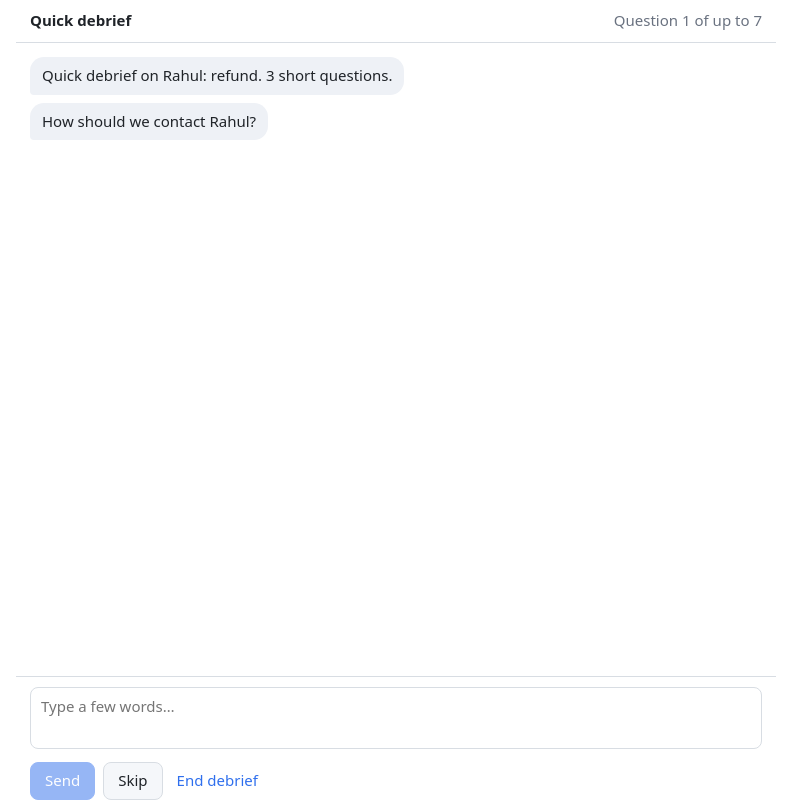
Test: debrief conversation › a stale question (409) refreshes the state instead of failing
The width and height of the screenshot is (793, 810).
In the text box named "Your answer": (396, 718) 30,687 -> 762,748, type "hello"
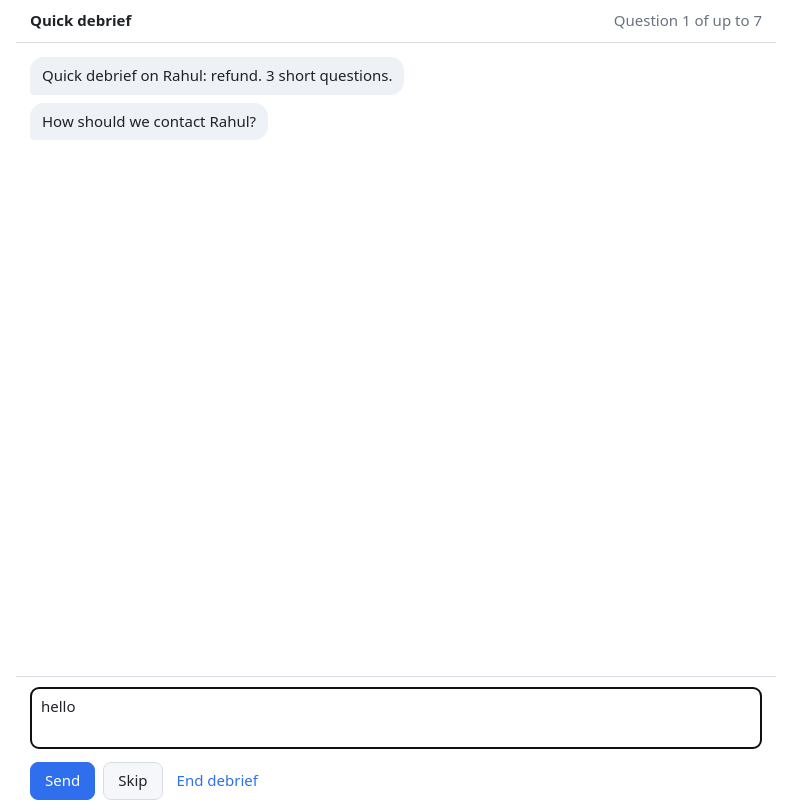
Click the button "Send": (63, 781) 30,762 -> 95,800
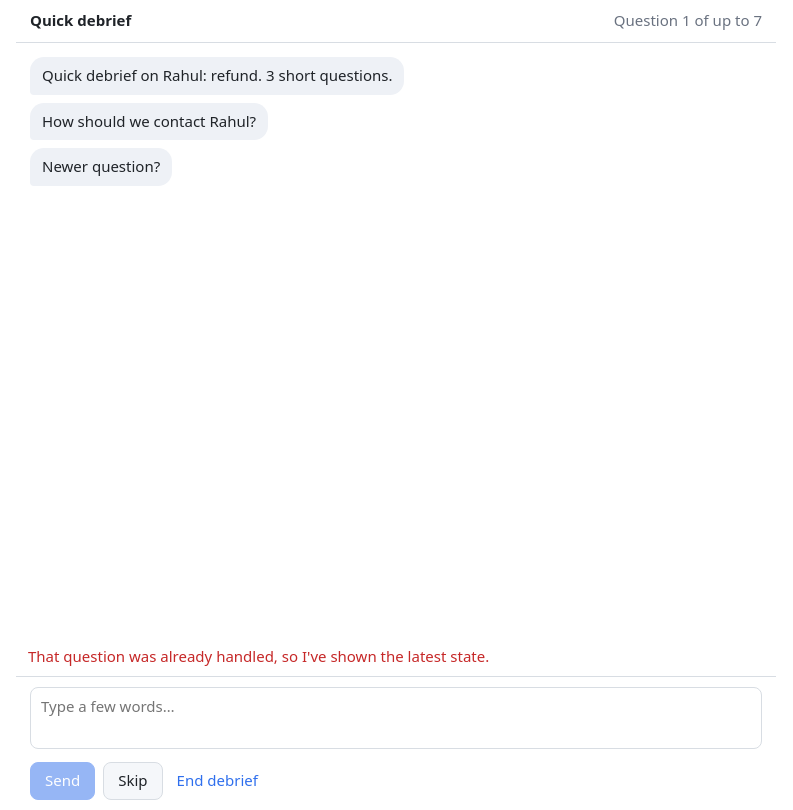
Now the text "Newer question?" is shown, box 30,148 -> 172,186
Now the message shows "already handled", box 28,646 -> 489,666
